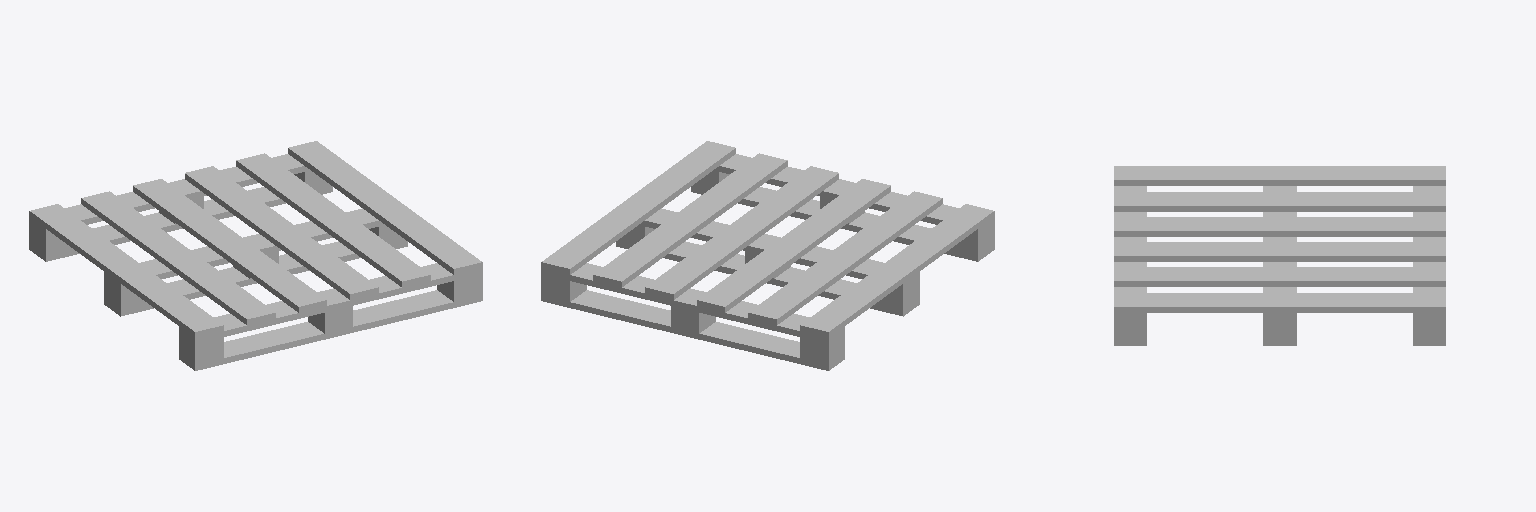
Rendered from palette_empty.obj.
The picture shows the model from 3 angles: view 1: azimuth 30°, elevation 25°; view 2: azimuth 150°, elevation 25°; view 3: azimuth 270°, elevation 25°; orthographic projection.
Parts seen in each view (by area): view 1: Cube, Cube.003_Cube.004, Cube.001, Cube.002_Cube.003; view 2: Cube, Cube.003_Cube.004, Cube.001, Cube.002_Cube.003; view 3: Cube, Cube.001, Cube.002_Cube.003, Cube.003_Cube.004.
Part boxes in pixels (x1,y1,x2,y2): Cube: (29,141,482,337); Cube.003_Cube.004: (29,186,482,370); Cube.001: (29,154,482,343); Cube.002_Cube.003: (29,170,482,364); Cube: (541,141,994,337); Cube.003_Cube.004: (541,186,994,370); Cube.001: (541,154,994,343); Cube.002_Cube.003: (541,170,994,364); Cube: (1114,166,1445,312); Cube.001: (1114,186,1445,318); Cube.002_Cube.003: (1114,319,1445,339); Cube.003_Cube.004: (1114,340,1445,345).
Size of the model in its own units: 2 by 0.26 by 2.